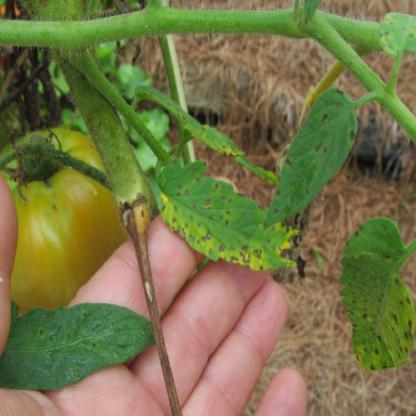tomato septoria leaf spot: (151, 159, 300, 277), (1, 299, 153, 391), (258, 91, 354, 232), (339, 215, 410, 374)
